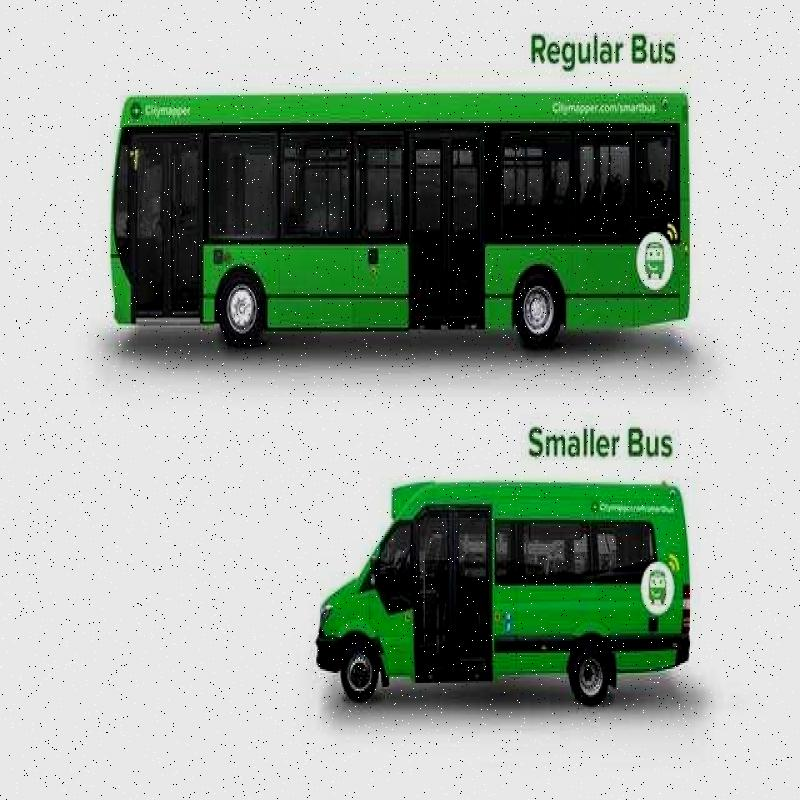bus: (93, 39, 706, 376)
